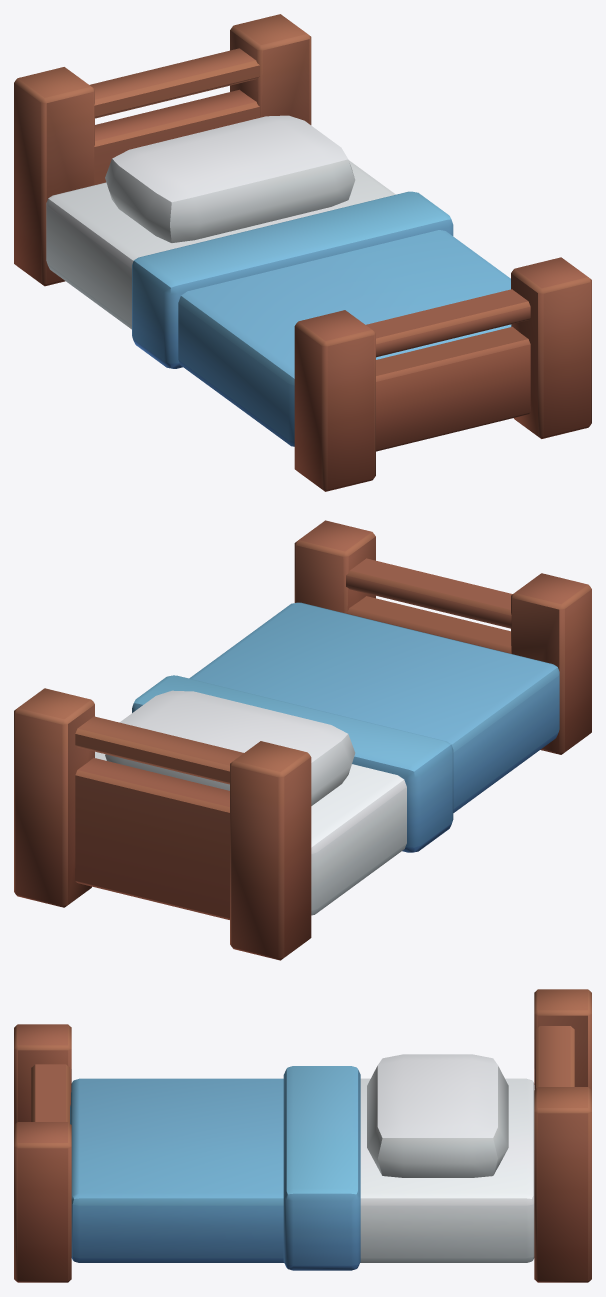
File: kay-cama-solteiro-b.gltf
3 renders of one model, top to bottom at view 1: azimuth 30°, elevation 25°; view 2: azimuth 150°, elevation 25°; view 3: azimuth 270°, elevation 25°, orthographic. The views are drawn at different scales.
Parts seen in each view (by area): view 1: bed_single_B; view 2: bed_single_B; view 3: bed_single_B.
Part boxes in pixels (box(x1,y1,x2,y2)): bed_single_B: box(14, 14, 591, 491); bed_single_B: box(14, 520, 591, 960); bed_single_B: box(14, 989, 591, 1282).
Size of the model in its own units: 1.04 by 0.6499 by 1.95.
1 material, 1 textured.
